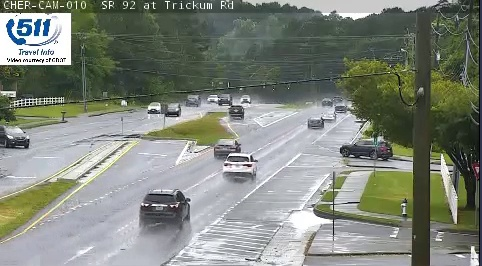car: (141, 190, 189, 223), (222, 153, 256, 178), (214, 139, 240, 158), (227, 105, 243, 118), (307, 117, 323, 129)
